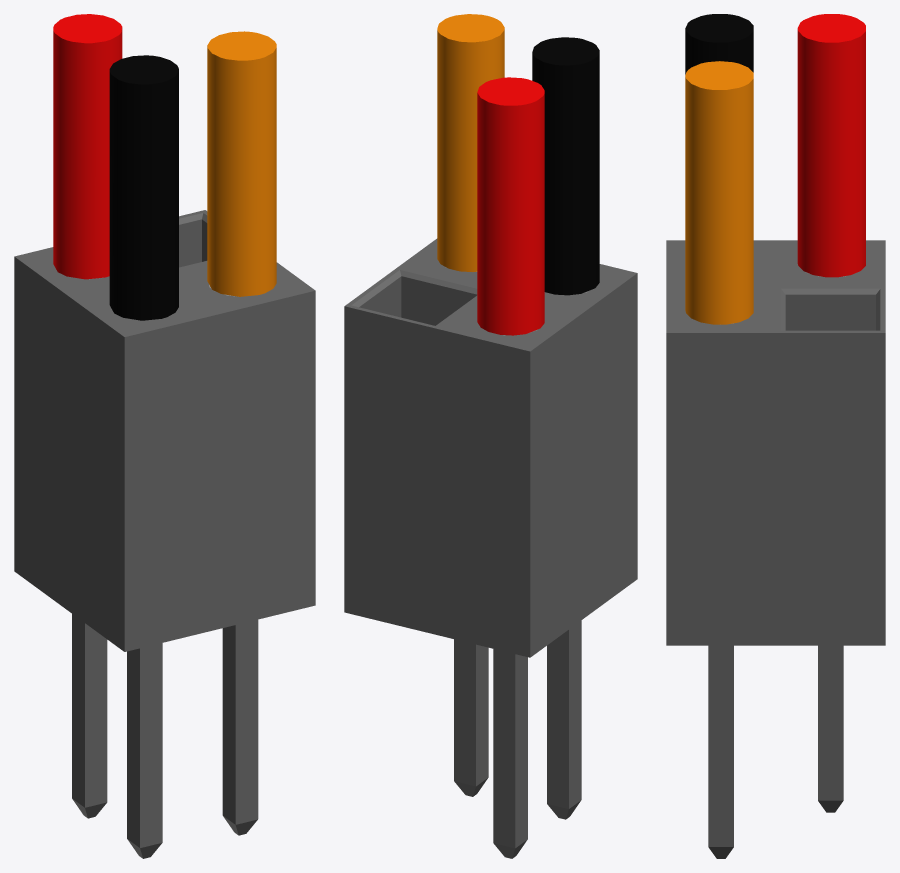
The model's file is adapter1.glb.
The picture shows the model from 3 angles, left to right: view 1: azimuth 30°, elevation 25°; view 2: azimuth 150°, elevation 25°; view 3: azimuth 270°, elevation 25°; orthographic projection. The views are drawn at different scales.
Parts seen in each view (by area): view 1: adapter1; view 2: adapter1; view 3: adapter1.
Part boxes in pixels (x1,y1,x2,y2): adapter1: (14, 14, 315, 858); adapter1: (344, 14, 637, 858); adapter1: (666, 14, 885, 858).
Size of the model in its own units: 0.508 by 2 by 0.508.
